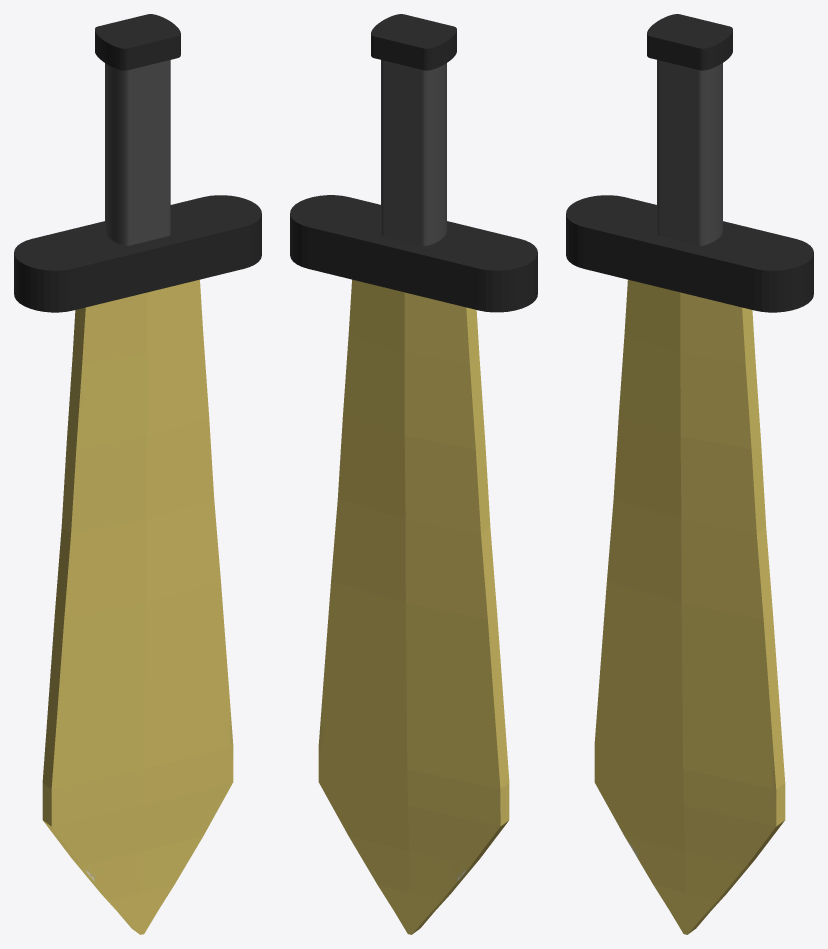
The model's file is Espada.fbx.
3 renders of one model, left to right at view 1: azimuth 30°, elevation 25°; view 2: azimuth 150°, elevation 25°; view 3: azimuth 330°, elevation 25°, orthographic.
Parts seen in each view (by area): view 1: Cylinder.004; view 2: Cylinder.004; view 3: Cylinder.004.
Part boxes in pixels (bbox=[...]): Cylinder.004: bbox=[14, 14, 261, 934]; Cylinder.004: bbox=[290, 14, 537, 934]; Cylinder.004: bbox=[566, 14, 813, 934].
Bounding box in the file's own units: 198 × 721 × 59.33.
Materials: 1 (1 with a texture image).
